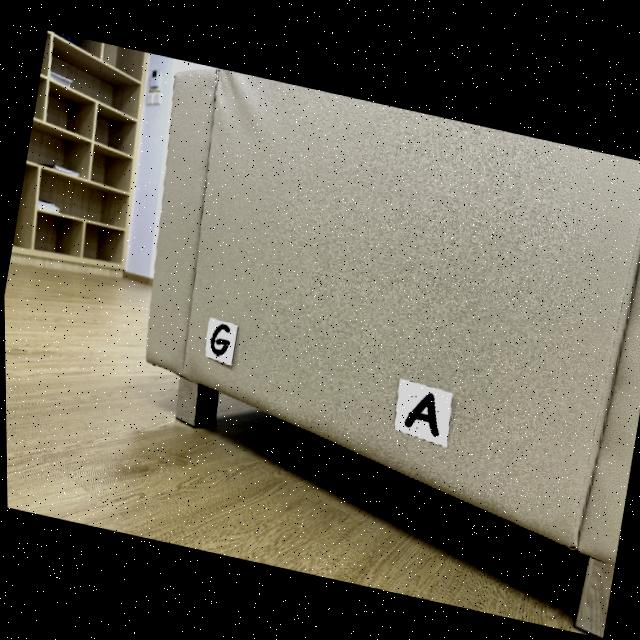A: (403, 389, 437, 432)
G: (209, 322, 229, 354)
